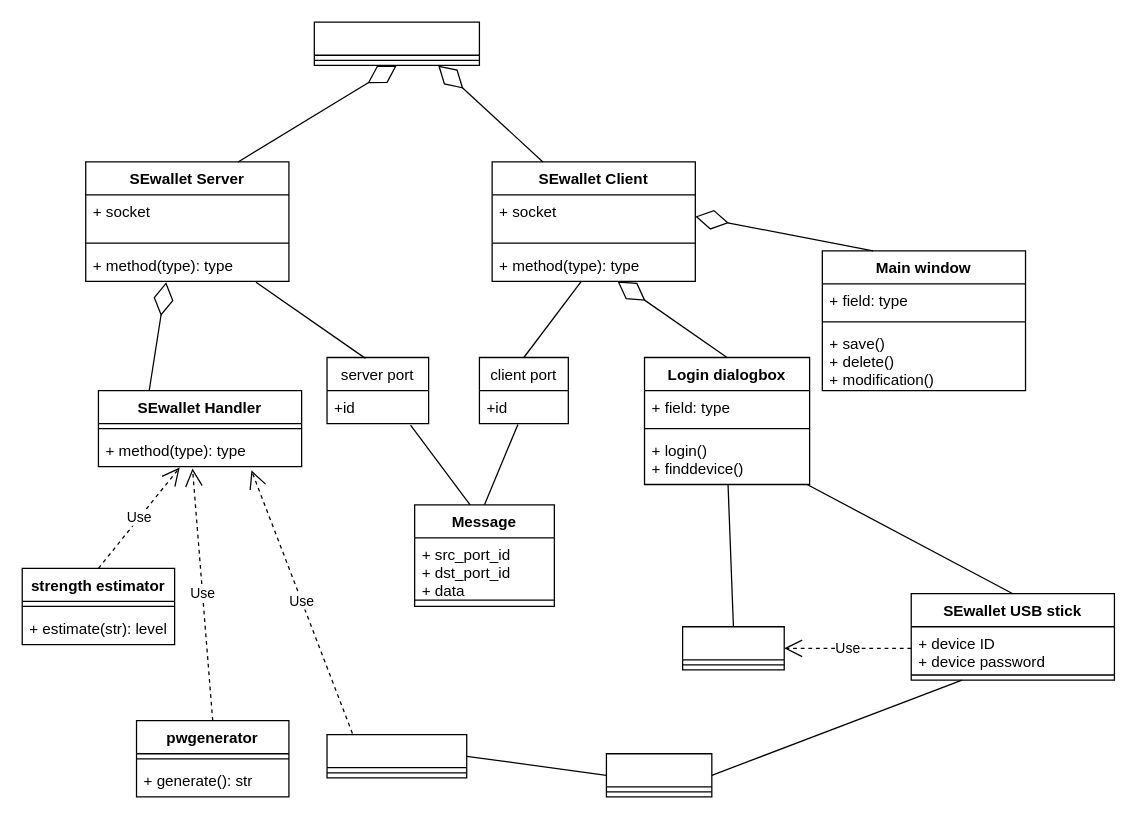
Image size: 1137x823. Some labels were removed from this diagram. The centre of each missing label's shape, as x and y in pixels:
"firmware" goes at (658,774).
"Host side API" goes at (396,755).
"SEwallet host side" goes at (396,43).
"User" goes at (732,647).
